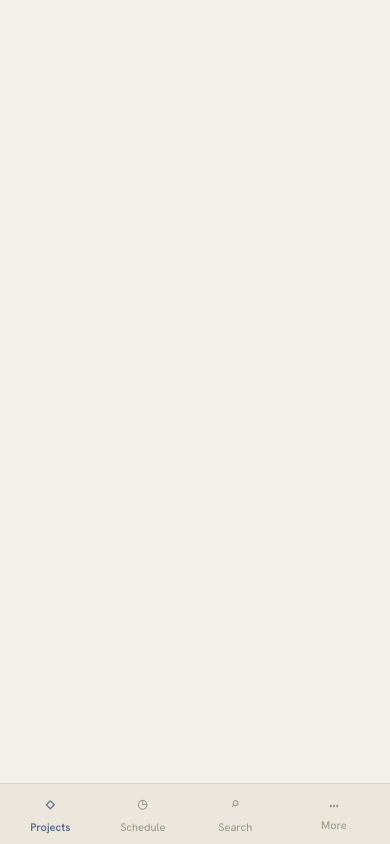
Test case: BottomTabBar › opens the More sheet (theme switcher) when More is tapped
The image size is (390, 844).
Click the text "More": x=334, y=825 x1=321 y1=818 x2=347 y2=832
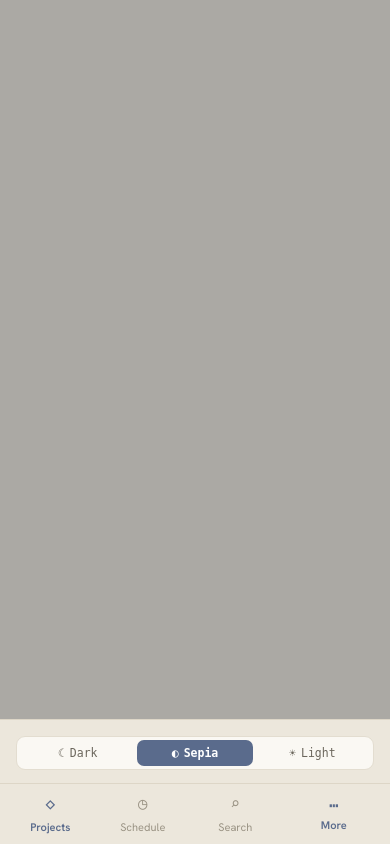
Result: the element named "Theme" is shown at x1=16 y1=736 x2=374 y2=770
